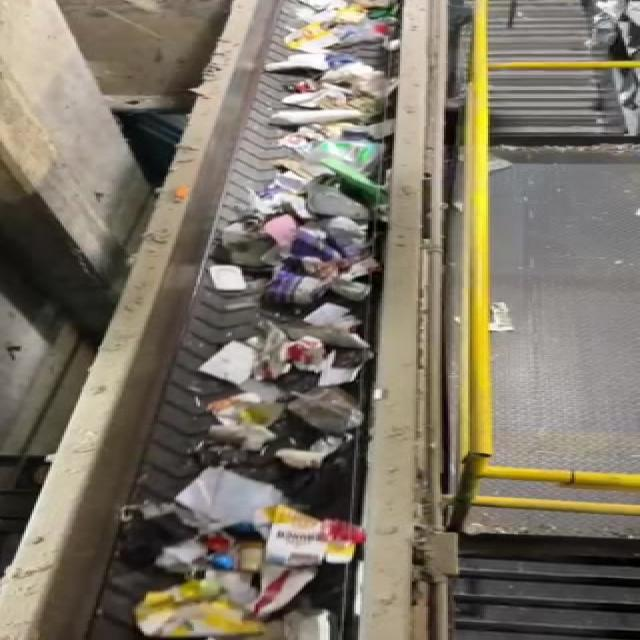paper: (118, 585, 302, 640), (177, 465, 296, 524), (270, 504, 378, 566)
pp: (288, 388, 377, 437)
